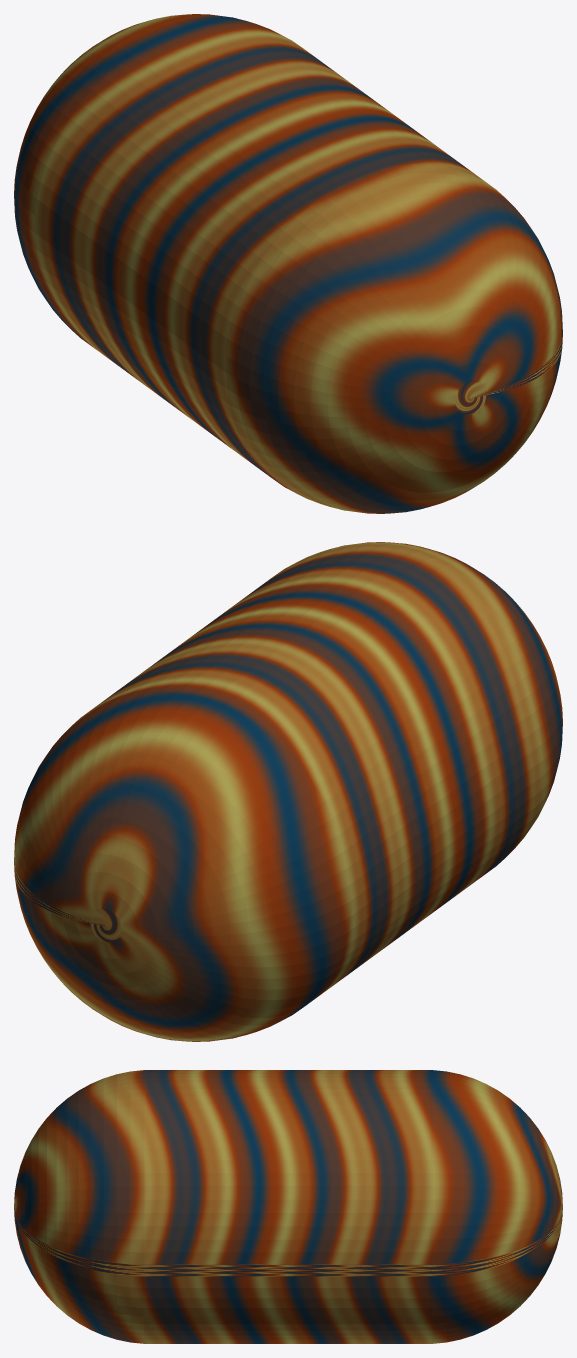
The model's file is capsule-sunset-c1.glb.
3 renders of one model, top to bottom at view 1: azimuth 30°, elevation 25°; view 2: azimuth 150°, elevation 25°; view 3: azimuth 270°, elevation 25°, orthographic. The views are drawn at different scales.
Parts seen in each view (by area): view 1: world; view 2: world; view 3: world.
Boxes of the visible parts, x1,y1,x2,y2 form: world: [14, 14, 562, 513]; world: [14, 542, 562, 1041]; world: [14, 1070, 562, 1343].
Size of the model in its own units: 0.6991 by 0.6991 by 1.4.
1 material, 1 textured.
